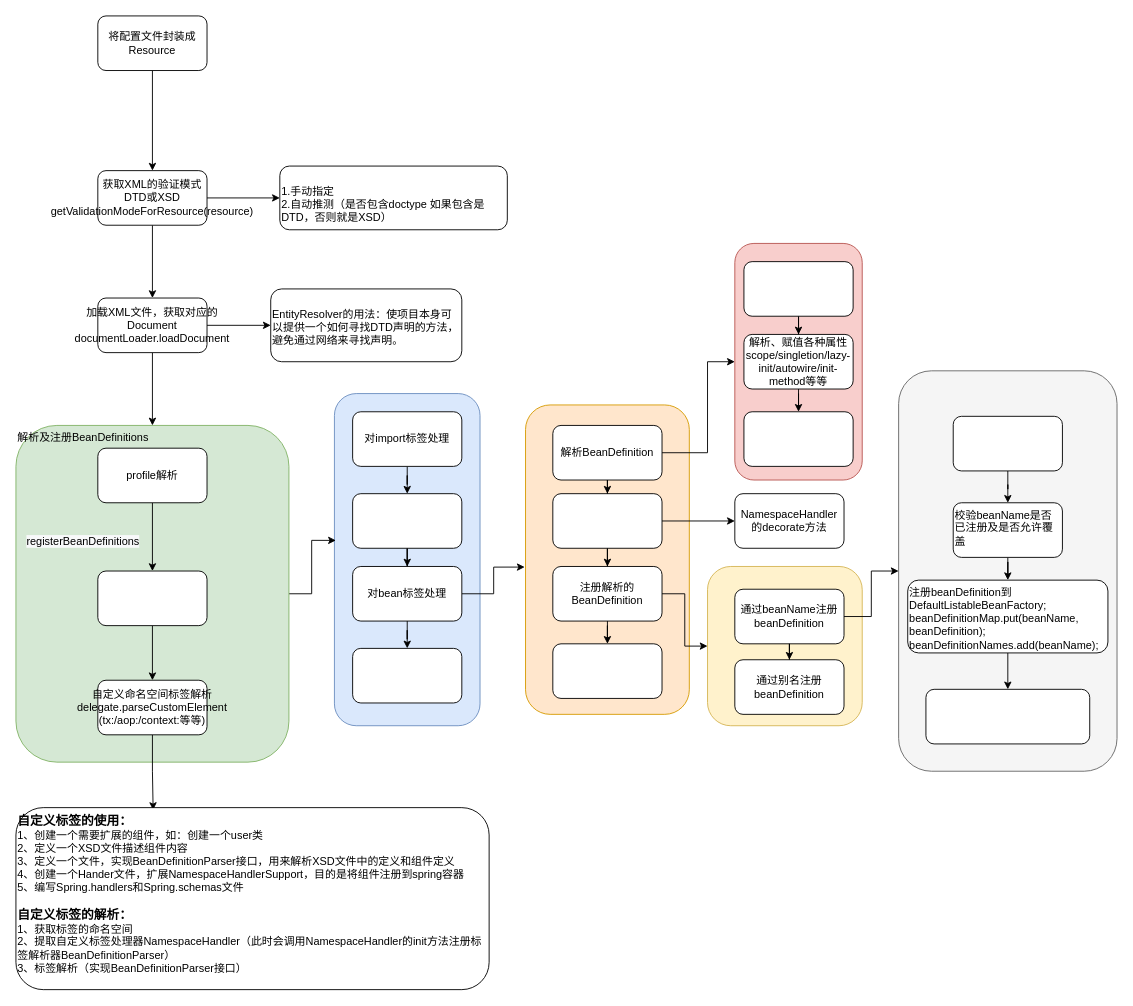
Image size: 1133x1006. Some labels were removed from this diagram. Each missing label, with the centre of its shape:
"创建用于承载属性的BeanDefinition对象" goes at [798,288].
"对alias标签处理" goes at [407,520].
"对beans标签处理" goes at [407,675].
"校验methodOverrides属性" goes at [1007,443].
"清空解析之前beanName对应的缓存resetBeanDefinition(beanName);" goes at [1007,716].
"解析、赋值各子自元素 meta/constutor-arg/property等等" goes at [798,438].
"解析默认标签中的自定义标签元素" goes at [607,520].
"通知监听器解析及注册完成" goes at [607,670].
"默认命名空间标签解析parseDefaultElement （beans/bean/import/alias）" goes at [152,598].
